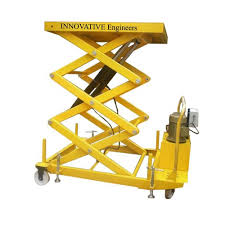Scissor Lift: (33, 18, 201, 201)
